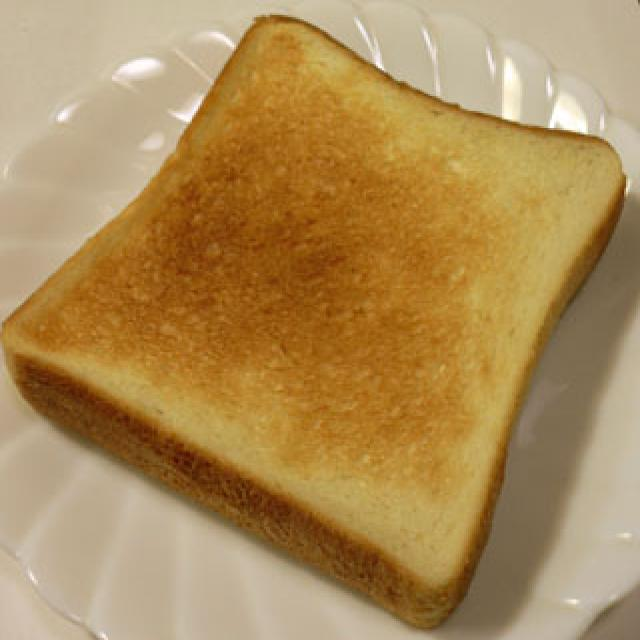面包点心: (0, 0, 620, 627)
